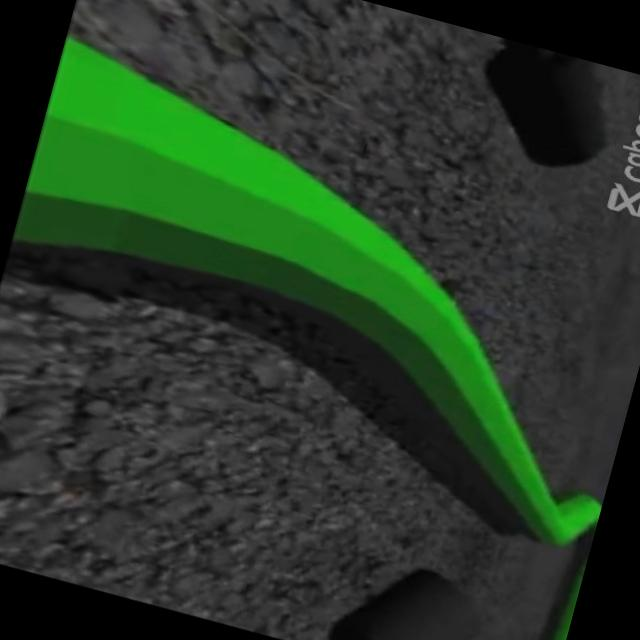gas: (0, 32, 611, 497)
